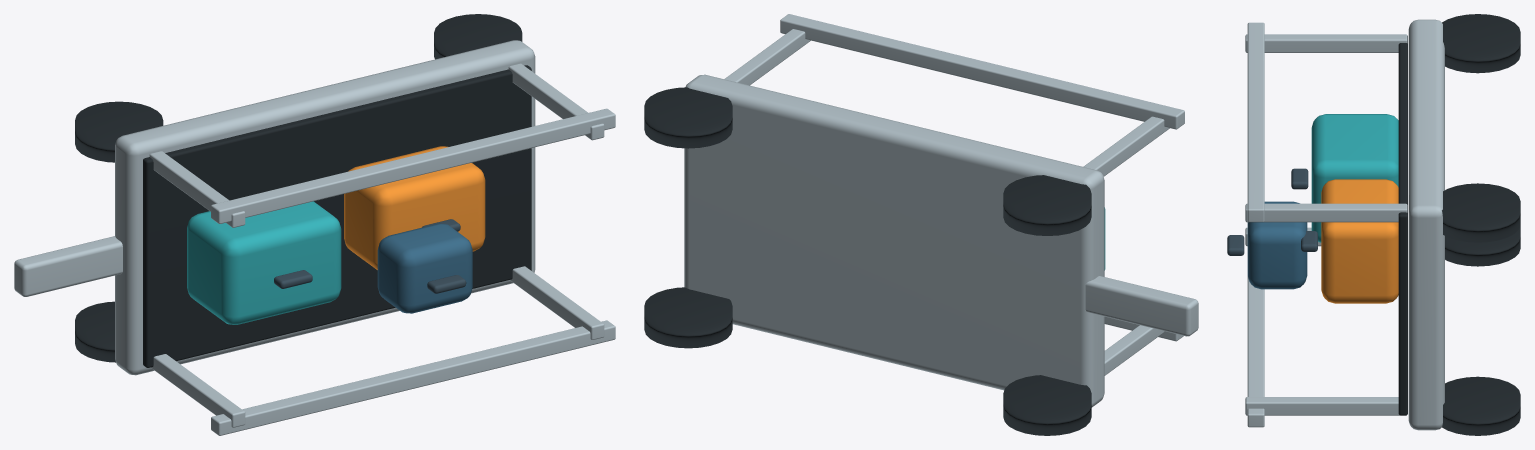
Rendered from hero_baggage_cart.glb.
3 views of the same model, side by side, from view 1: azimuth 30°, elevation 25°; view 2: azimuth 150°, elevation 25°; view 3: azimuth 270°, elevation 25° (orthographic). The views are drawn at different scales.
Visible parts, largest first — view 1: Cart tread, Baggage cart deck, Checked suitcase shell, Checked suitcase shell.001, Cart safety side rail.001, Cart safety side rail, Checked suitcase shell.002, Tow drawbar, Cart tire.001, Cart tire.003, Cart rail post, Cart rail post.002 (+3 smaller); view 2: Baggage cart deck, Cart safety side rail.001, Cart tire.003, Cart tire.001, Cart tire.002, Cart tire, Tow drawbar, Cart rail post.001, Cart rail post.003, Cart rail post; view 3: Baggage cart deck, Checked suitcase shell.001, Checked suitcase shell, Cart tire.003, Cart tire.002, Cart tire.001, Checked suitcase shell.002, Cart tread, Cart safety side rail.001, Cart rail post.003, Cart rail post.002, Cart rail post.001 (+5 smaller).
Part boxes in pixels (box(x1,y1,x2,y2)): Cart tread: box(143, 65, 531, 367); Baggage cart deck: box(115, 40, 535, 375); Checked suitcase shell: box(187, 201, 341, 324); Checked suitcase shell.001: box(344, 146, 485, 269); Cart safety side rail.001: box(211, 108, 615, 223); Cart safety side rail: box(211, 320, 615, 435); Checked suitcase shell.002: box(377, 223, 472, 313); Tow drawbar: box(14, 236, 122, 296); Cart tire.001: box(75, 101, 163, 162); Cart tire.003: box(434, 14, 522, 59); Cart rail post: box(150, 354, 245, 427); Cart rail post.002: box(510, 266, 604, 339); Baggage cart deck: box(684, 74, 1104, 407); Cart safety side rail.001: box(780, 14, 1184, 129); Cart tire.003: box(644, 87, 732, 148); Cart tire.001: box(1003, 175, 1091, 235); Cart tire.002: box(644, 287, 732, 348); Cart tire: box(1003, 375, 1091, 435); Tow drawbar: box(1085, 276, 1198, 336); Cart rail post.001: box(1083, 116, 1169, 176); Cart rail post.003: box(724, 29, 810, 85); Cart rail post: box(1104, 325, 1164, 375); Baggage cart deck: box(1408, 19, 1444, 430); Checked suitcase shell.001: box(1321, 179, 1398, 303); Checked suitcase shell: box(1311, 114, 1398, 242); Cart tire.003: box(1442, 183, 1520, 242); Cart tire.002: box(1442, 376, 1520, 435); Cart tire.001: box(1442, 14, 1520, 73); Checked suitcase shell.002: box(1247, 201, 1307, 289); Cart tread: box(1398, 36, 1407, 415); Cart safety side rail.001: box(1247, 22, 1264, 222); Cart rail post.003: box(1245, 203, 1407, 222); Cart rail post.002: box(1245, 397, 1399, 415); Cart rail post.001: box(1245, 34, 1407, 52).
Size of the model in its own units: 2.73 by 1.16 by 1.38.
